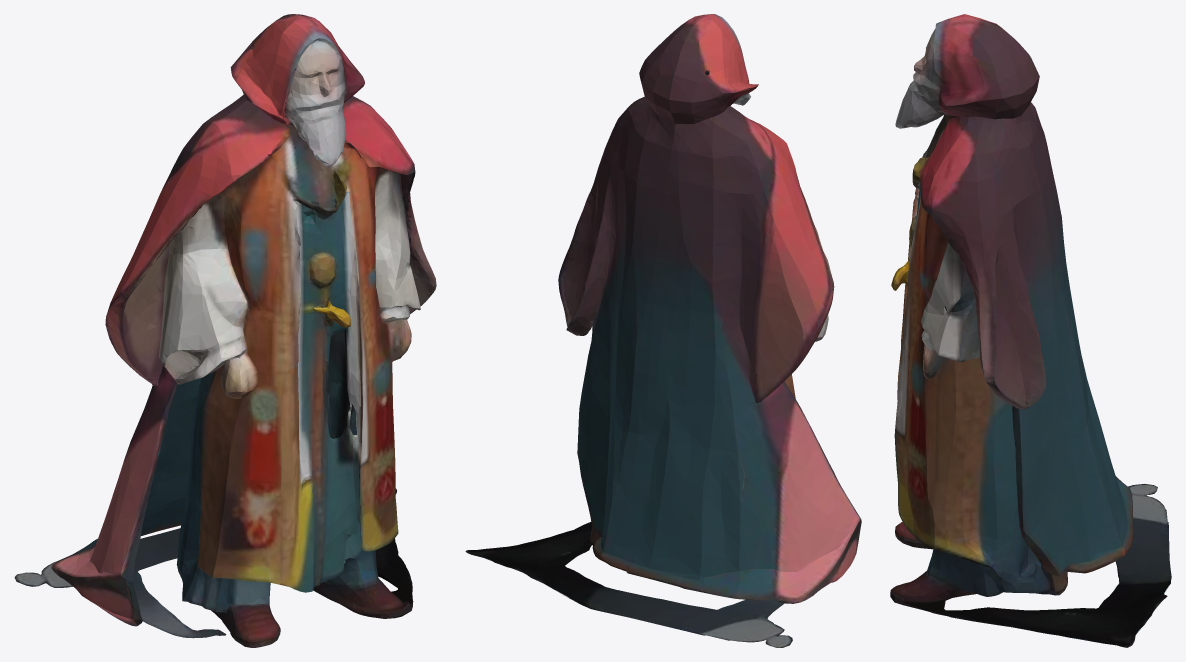
Rendered from anime_medieval_merchant.glb.
3 renders of one model, left to right at view 1: azimuth 30°, elevation 25°; view 2: azimuth 150°, elevation 25°; view 3: azimuth 270°, elevation 25°, orthographic. The views are drawn at different scales.
Parts seen in each view (by area): view 1: geometry_0; view 2: geometry_0; view 3: geometry_0.
Part boxes in pixels (x1=…): geometry_0: x1=14, y1=14, x2=436, y2=647; geometry_0: x1=465, y1=14, x2=861, y2=647; geometry_0: x1=890, y1=14, x2=1171, y2=647.
Bounding box in the file's own units: 0.6629 × 1 × 0.4594.
1 material, 1 textured.
